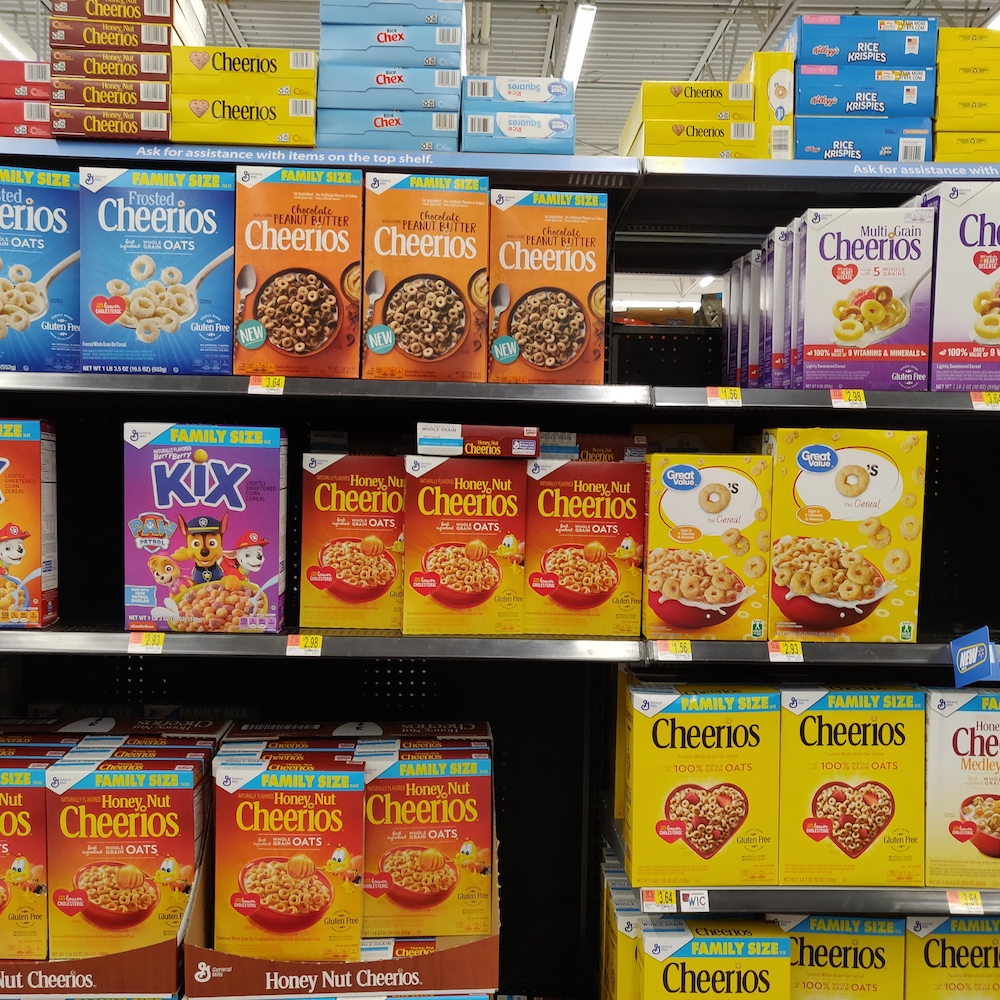Kix Berry -568919964: (117, 438, 301, 649)
